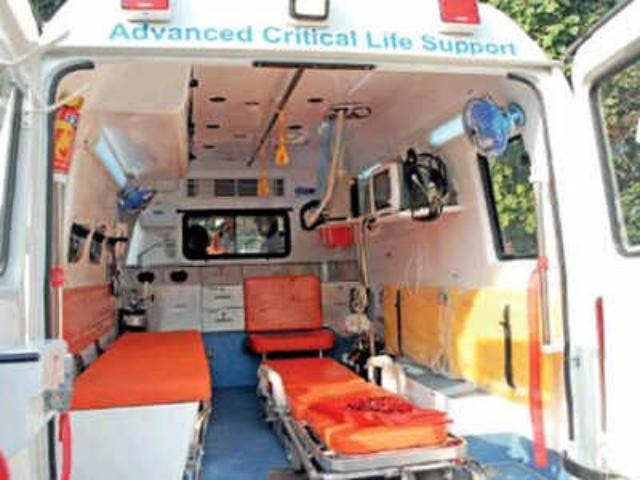ambulance: (1, 0, 640, 480)
